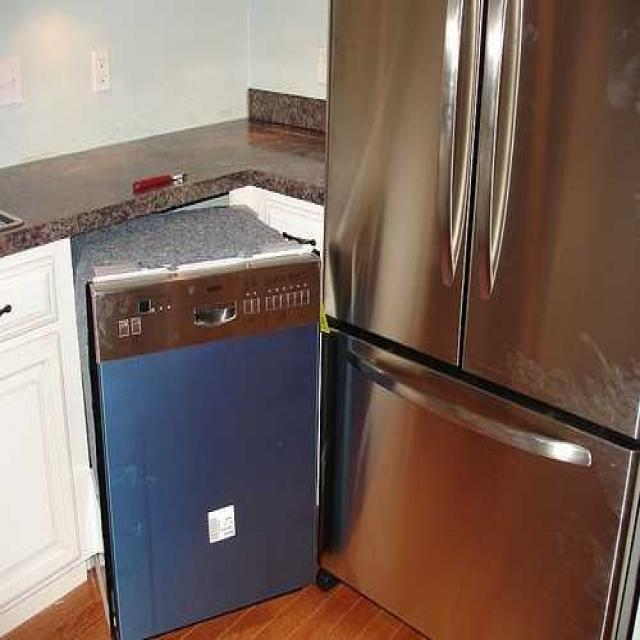refrigerator: (90, 207, 327, 639)
